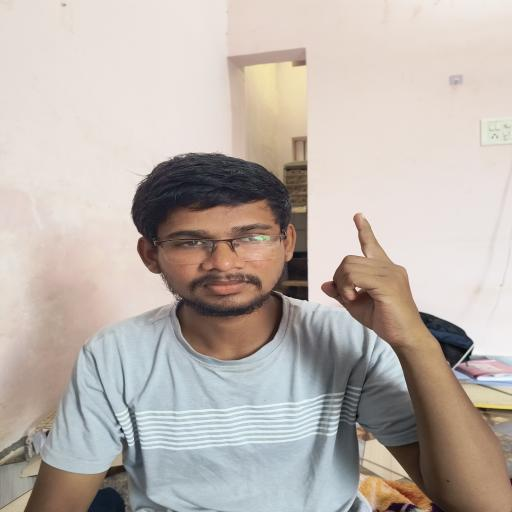What: (301, 196, 460, 388)
